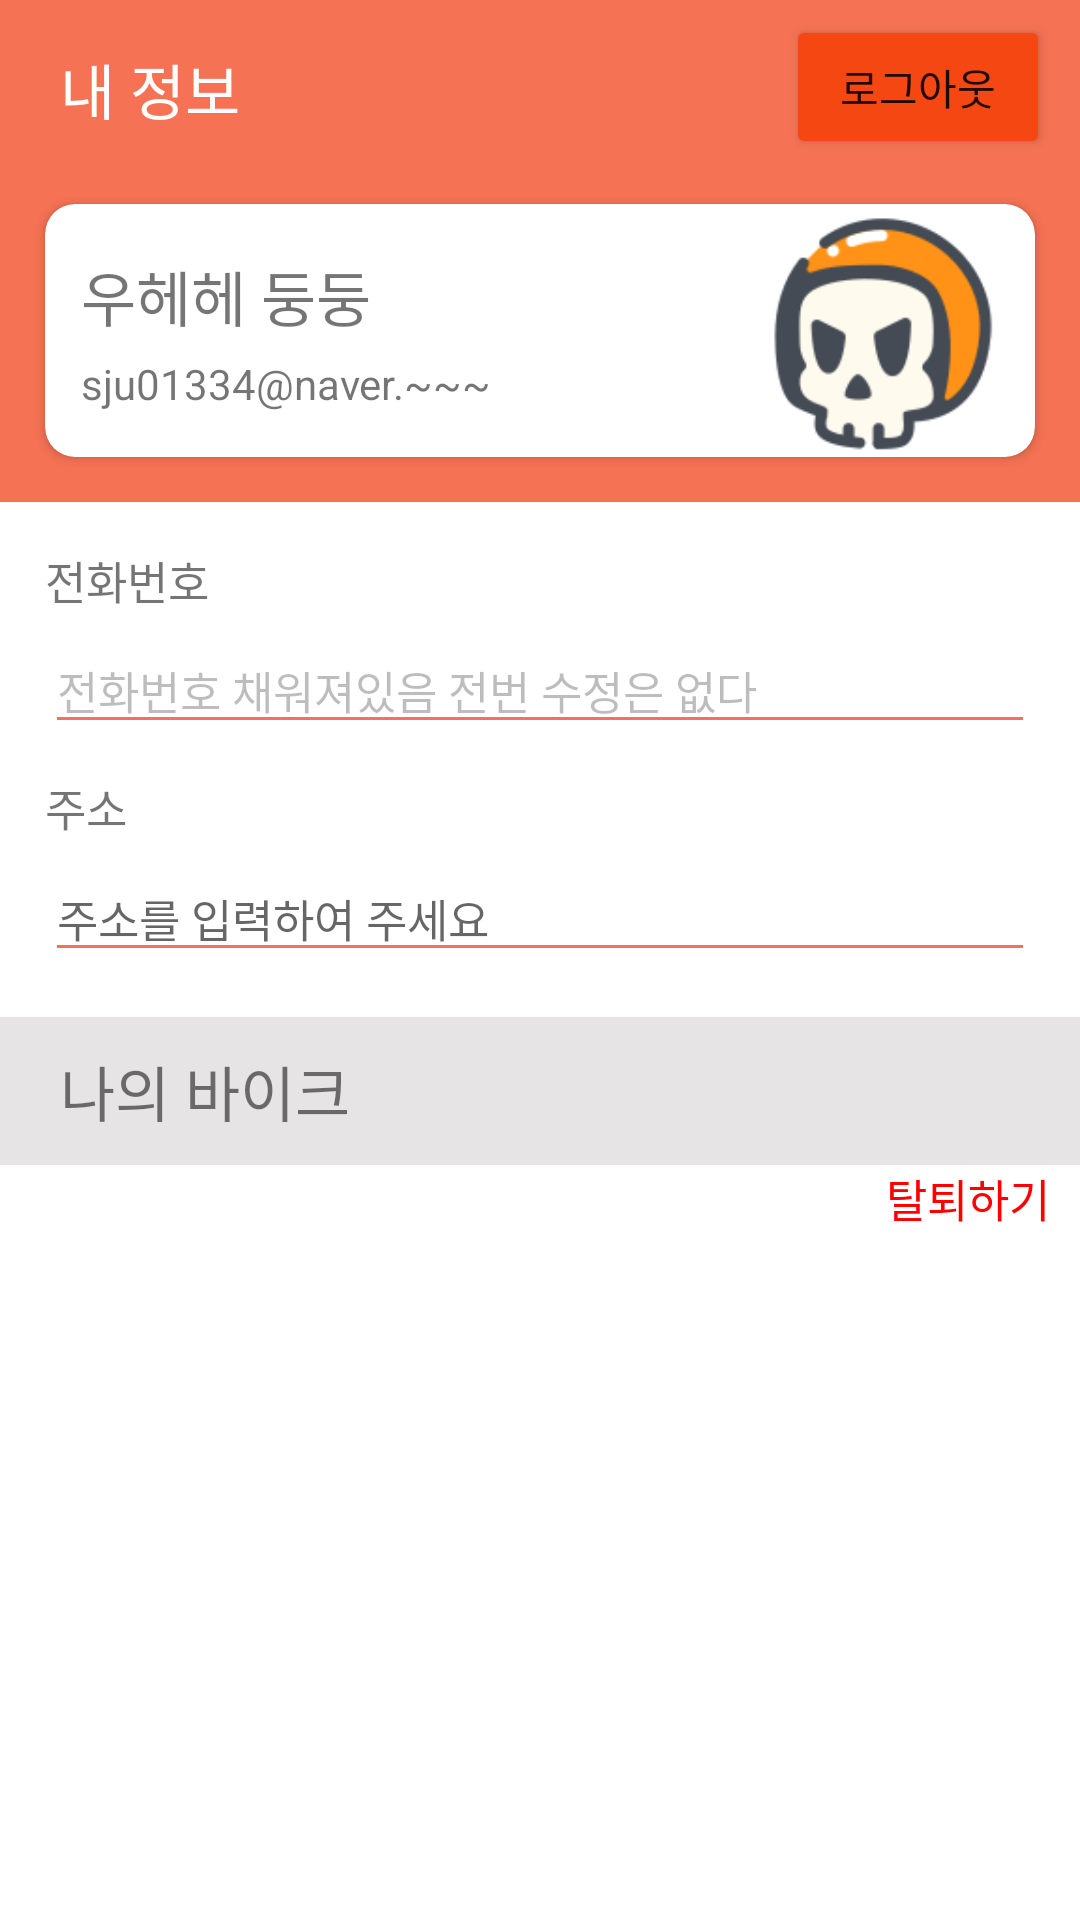

Where icons sit on this 1080px×1920px app screen, as (x1, y1, x2, y2):
helmet: (774, 218, 992, 450)
